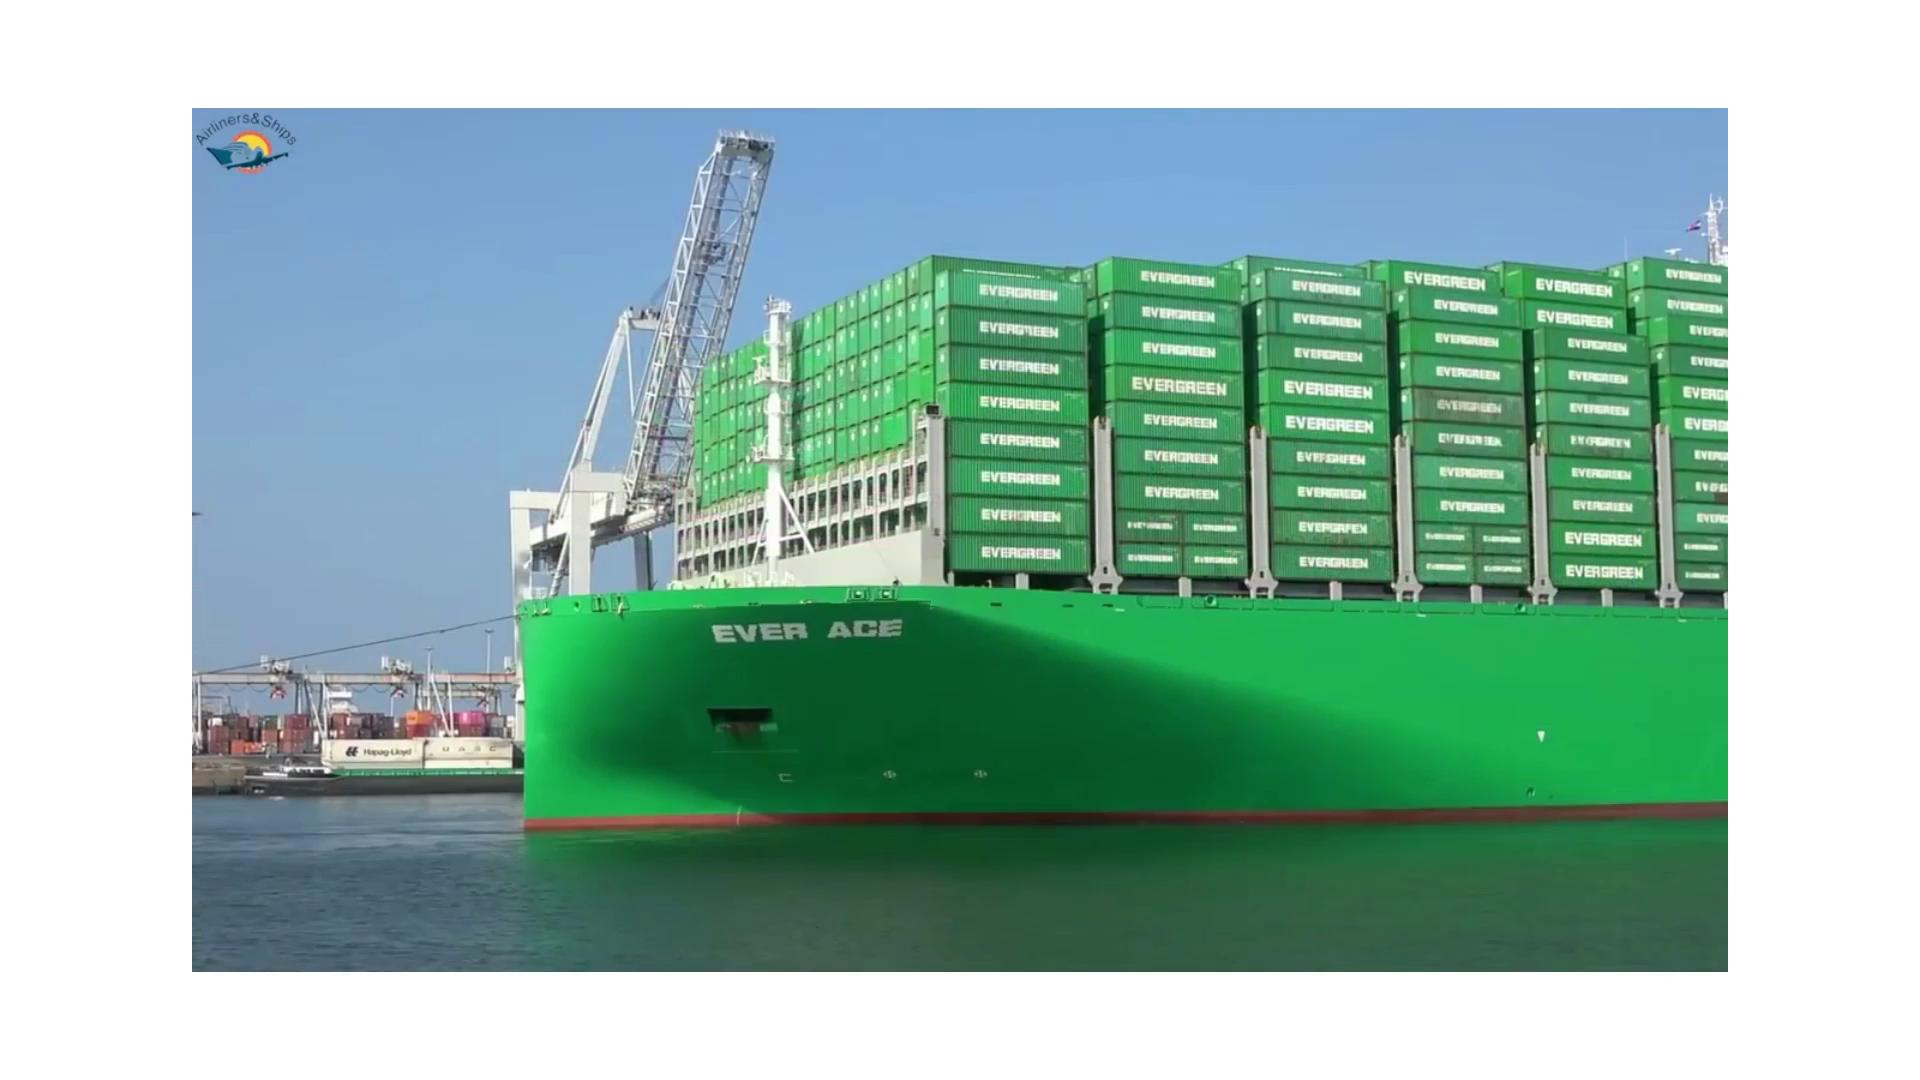OCR: (694, 597, 932, 662)
